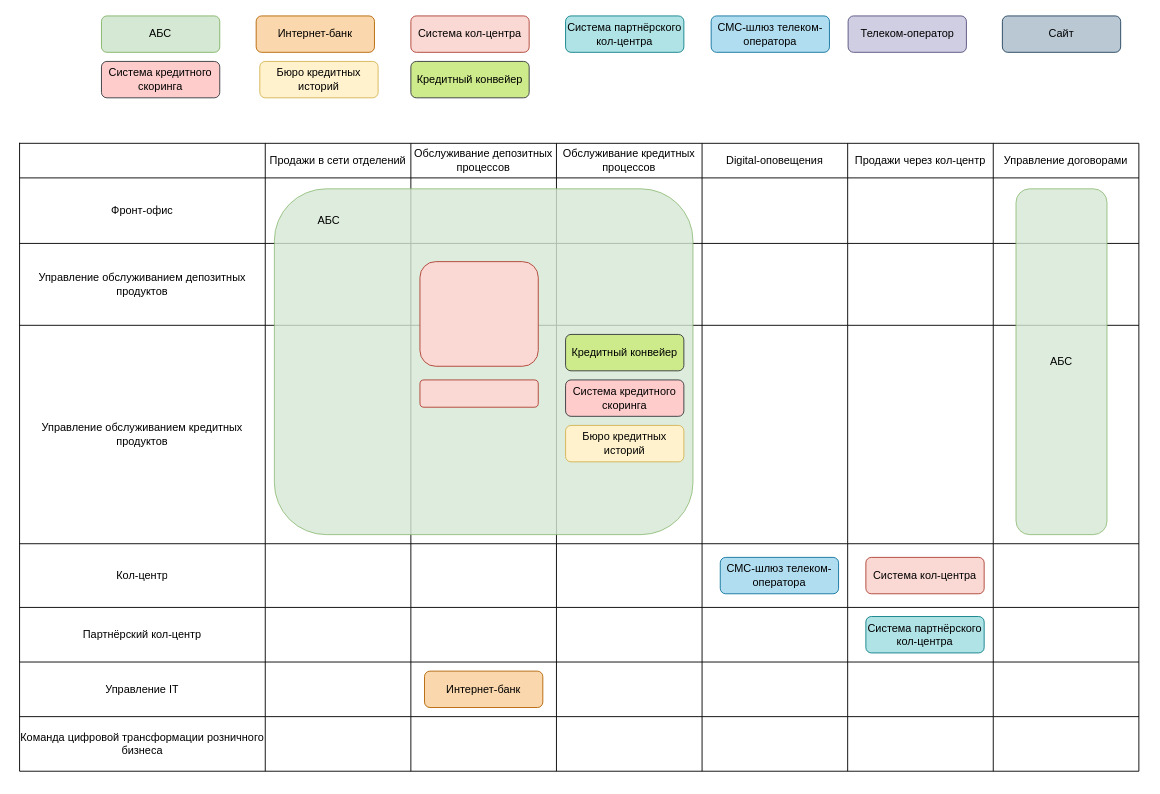
This 1160x794 diagram has some shape labels left out. Each missing label, with the centre of its shape:
Email (обмен данными): the point at 478,313
Excel (расчет ставок): the point at 478,393
